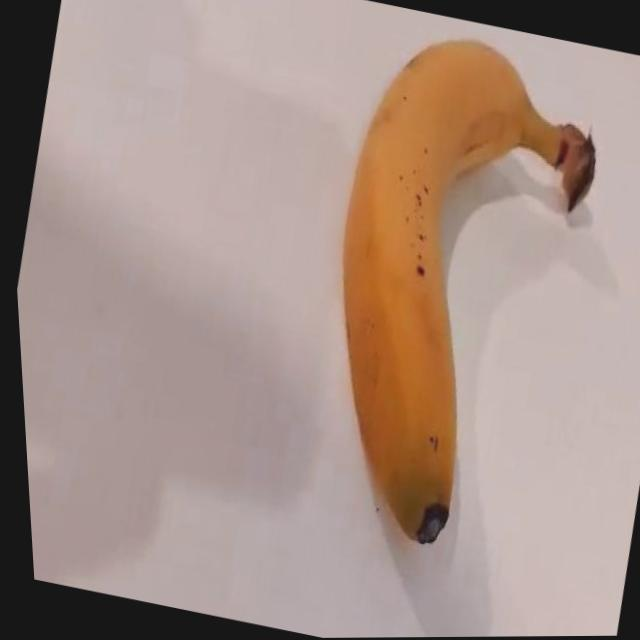Banana: (270, 19, 633, 571)
